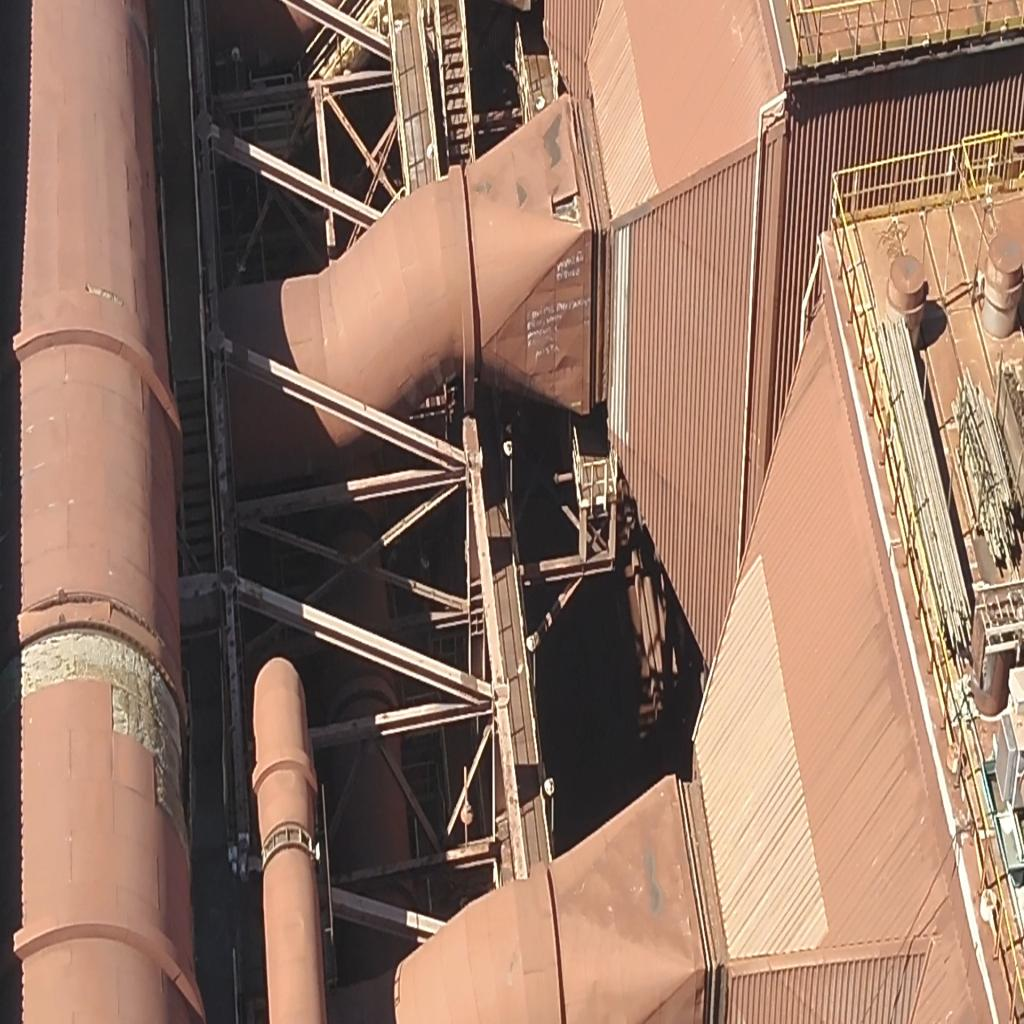Failures: (10, 623, 189, 820), (548, 183, 586, 239)
